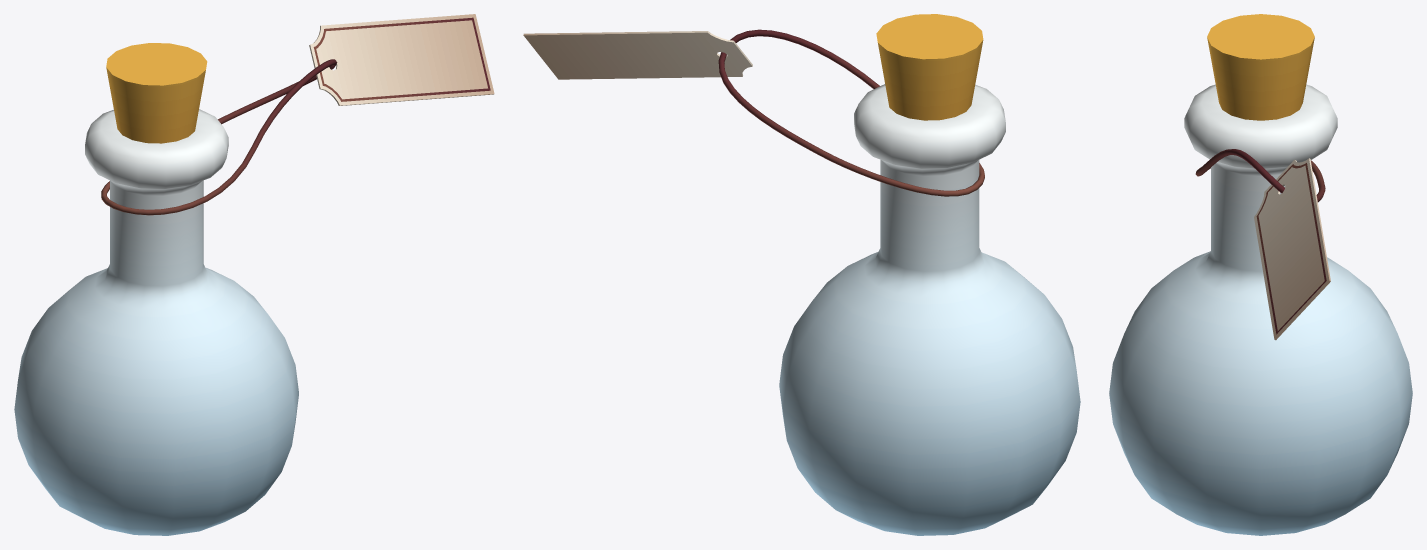
Rendered from lovePotion.fbx.
3 views of the same model, side by side, from view 1: azimuth 30°, elevation 25°; view 2: azimuth 150°, elevation 25°; view 3: azimuth 270°, elevation 25° (orthographic). The views are drawn at different scales.
Visible parts, largest first — view 1: lovePotion; view 2: lovePotion; view 3: lovePotion.
Part boxes in pixels (x1,y1,x2,y2): lovePotion: (14, 14, 494, 535); lovePotion: (523, 14, 1080, 535); lovePotion: (1109, 14, 1412, 535).
Size of the model in its own units: 0.5154 by 0.4565 by 0.2696.
